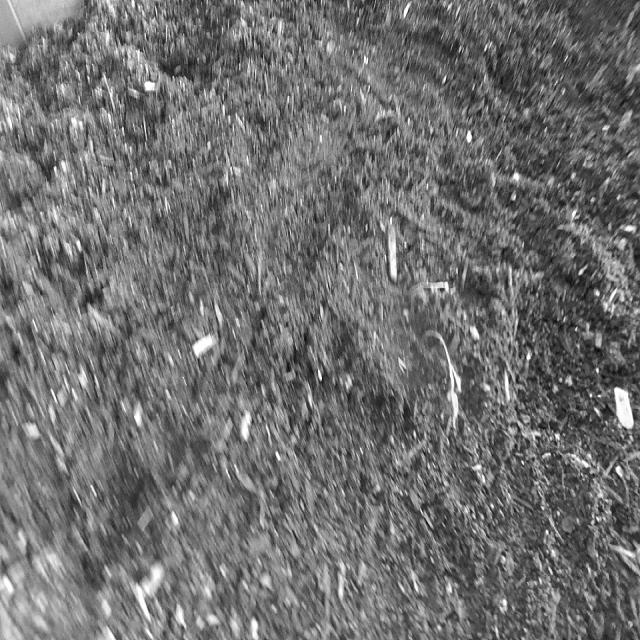Unhealthy: (420, 323, 466, 442)
